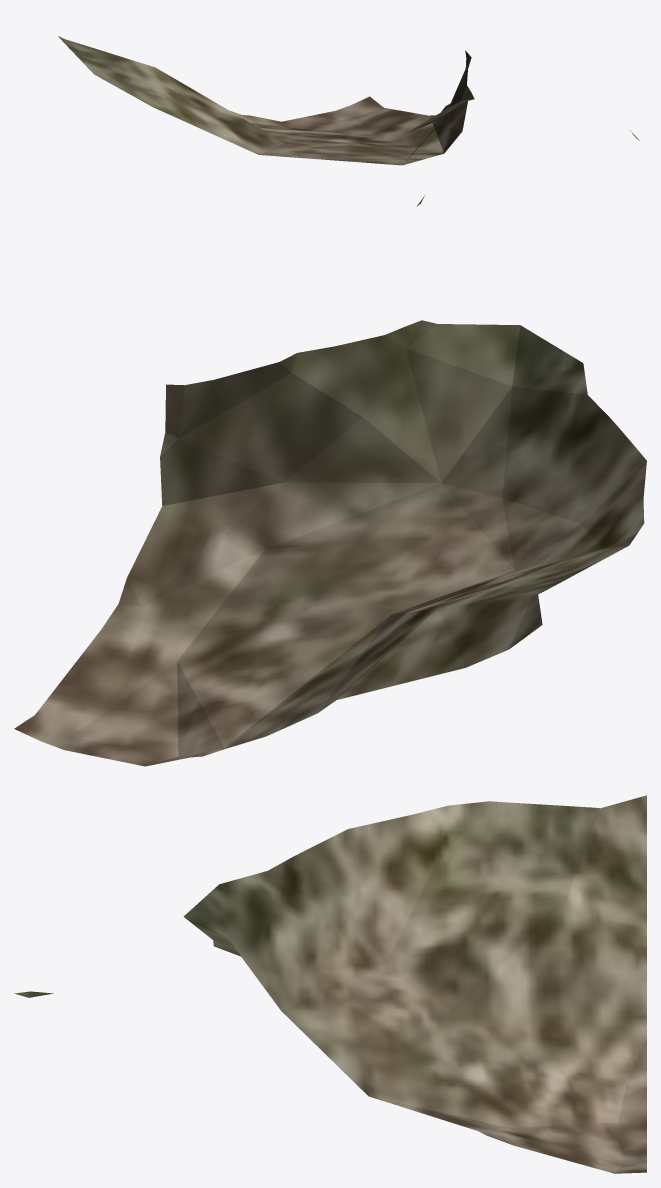
The picture shows the model from 3 angles, top to bottom: view 1: azimuth 30°, elevation 25°; view 2: azimuth 150°, elevation 25°; view 3: azimuth 270°, elevation 25°; orthographic projection. The views are drawn at different scales.
Size of the model in its own units: 0.8132 by 0.3571 by 1.1.
1 material, 1 textured.
